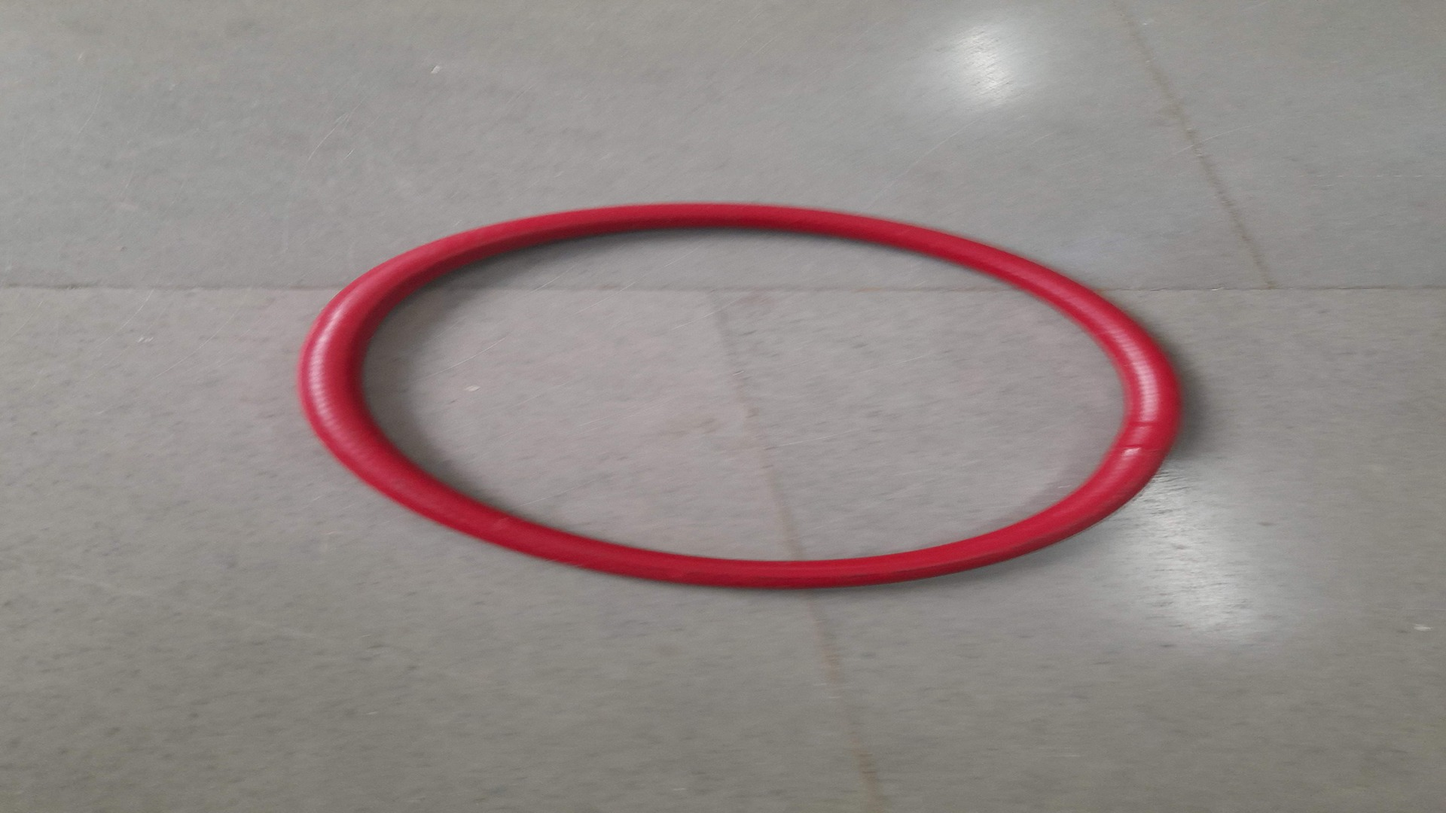Red ring: (296, 199, 1188, 593)
